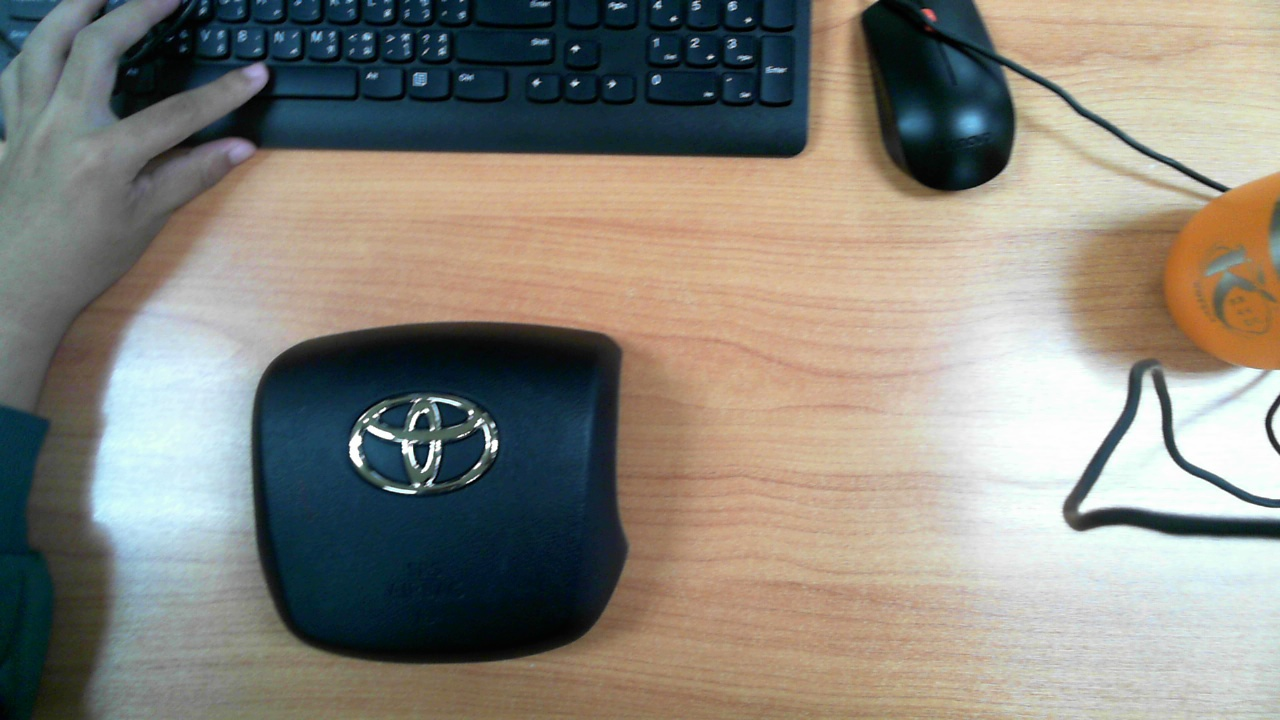Airbag: (250, 320, 628, 665)
Toyota: (349, 393, 500, 495)
